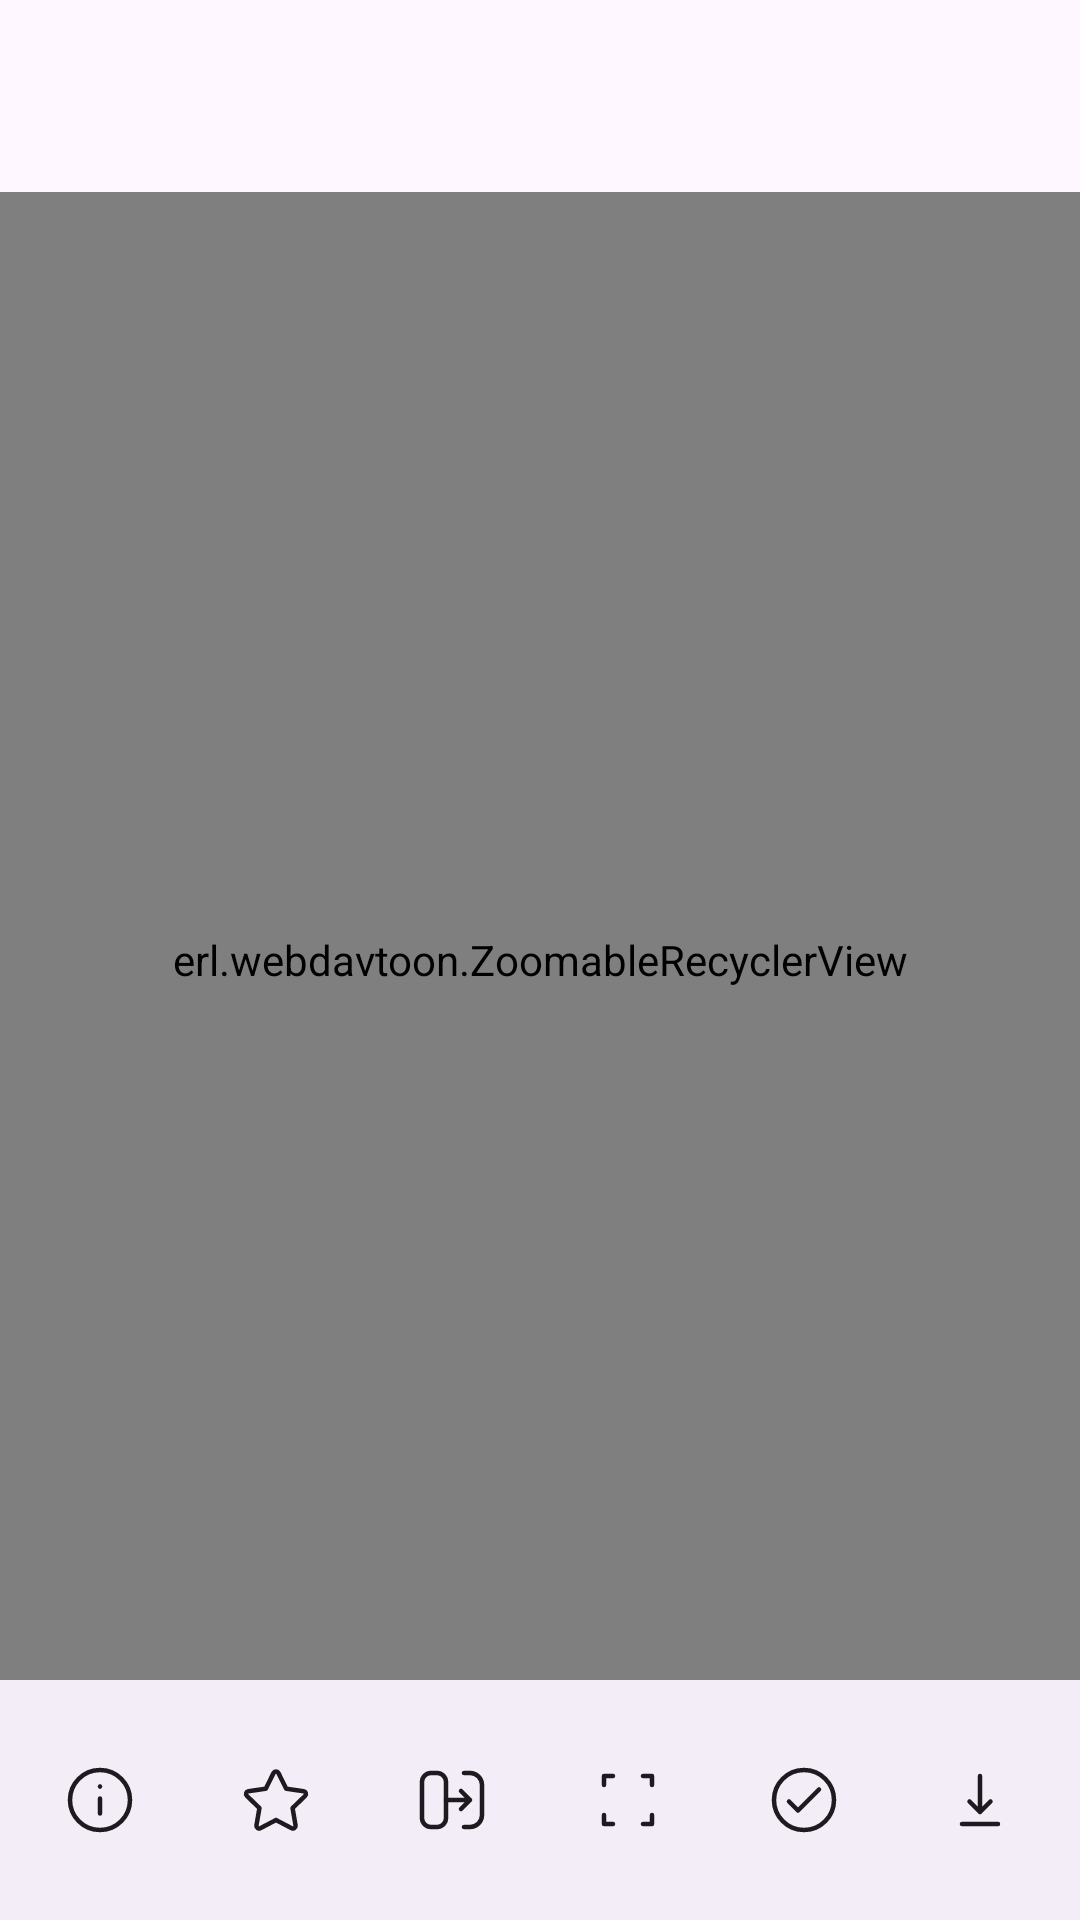

Where to tap for icons on this 1080px x 1920px app screen, as [x,y]:
Detail: [100,1800]
Download: [979,1800]
Favorites: [276,1800]
Immersive Switch: [628,1800]
Mode Switch: [452,1800]
Select: [804,1800]
